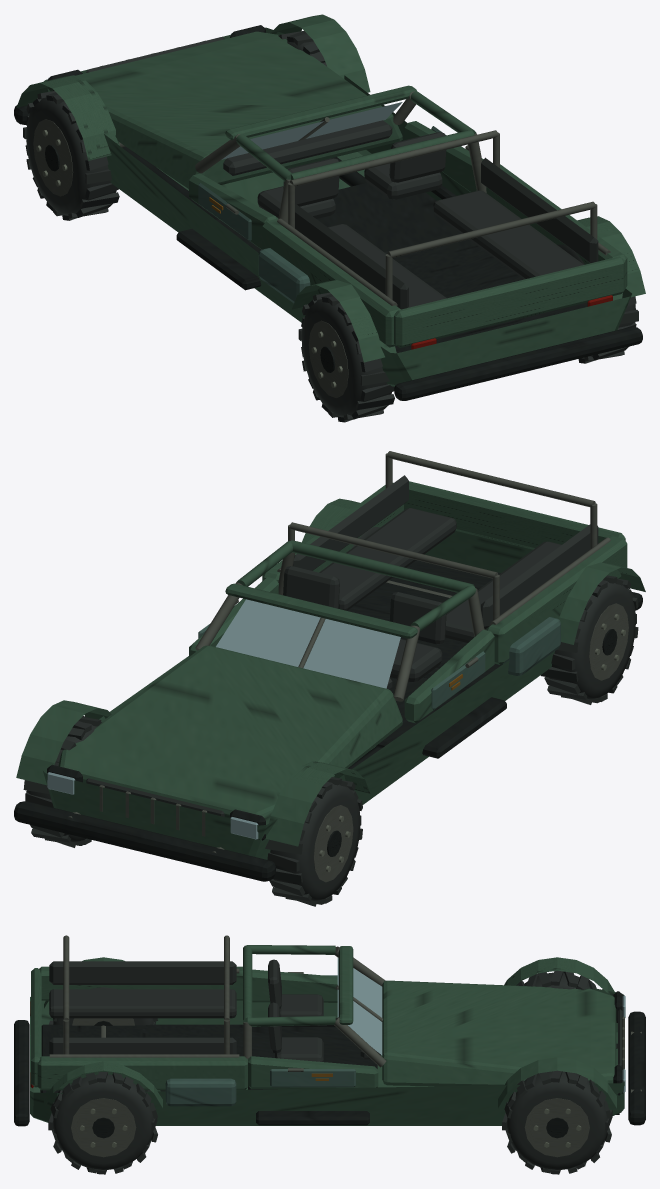
File: convoy-hauler.glb
3 renders of one model, top to bottom at view 1: azimuth 30°, elevation 25°; view 2: azimuth 150°, elevation 25°; view 3: azimuth 270°, elevation 25°, orthographic. The views are drawn at different scales.
Parts seen in each view (by area): view 1: Chassis, Wheel_FL, Wheel_RL, Wheel_RR, Wheel_FR; view 2: Chassis, Wheel_FL, Wheel_RL, Wheel_FR; view 3: Chassis, Wheel_FR, Wheel_RR, Wheel_FL, Wheel_RL.
Boxes of the visible parts, x1,y1,x2,y2 form: Chassis: (14, 14, 645, 400); Wheel_FL: (23, 91, 119, 220); Wheel_RL: (298, 292, 394, 422); Wheel_RR: (557, 244, 638, 363); Wheel_FR: (278, 31, 326, 66); Chassis: (14, 451, 645, 881); Wheel_FL: (265, 777, 362, 906); Wheel_RL: (540, 575, 638, 704); Wheel_FR: (23, 716, 101, 847); Chassis: (14, 935, 645, 1126); Wheel_FR: (502, 1070, 612, 1174); Wheel_RR: (48, 1072, 157, 1174); Wheel_FL: (516, 970, 603, 989); Wheel_RL: (49, 987, 157, 1025).
Size of the model in its own units: 2.62 by 1.52 by 6.1.
Materials: 3 (1 with a texture image).
